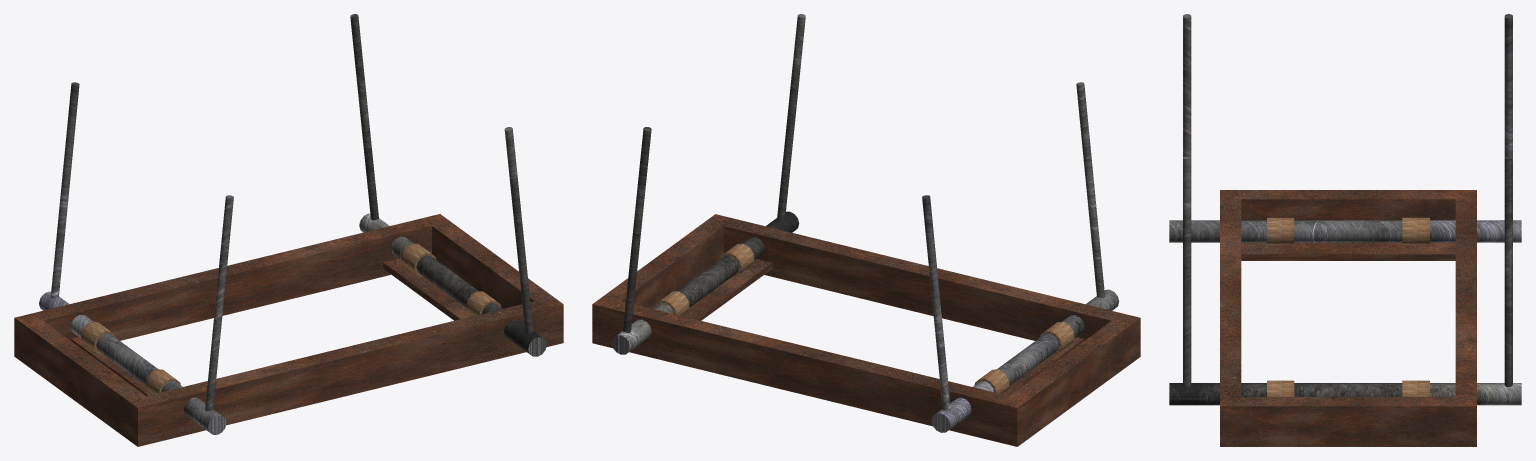
Rendered from toture02.fbx.
3 renders of one model, left to right at view 1: azimuth 30°, elevation 25°; view 2: azimuth 150°, elevation 25°; view 3: azimuth 270°, elevation 25°, orthographic. The views are drawn at different scales.
Visible parts, largest first — view 1: Box001, Cylinder002, Cylinder001, Cylinder004, Cylinder003, Cylinder005, Cylinder006, Box002, Box003, Cylinder007, Cylinder010; view 2: Box001, Cylinder002, Cylinder001, Cylinder003, Cylinder004, Cylinder006, Cylinder005, Box002, Box003, Cylinder008, Cylinder009; view 3: Box001, Cylinder002, Cylinder001, Box003, Cylinder005, Cylinder006, Cylinder003, Cylinder004, Cylinder010, Cylinder009, Cylinder007, Cylinder008.
Boxes of the visible parts, x1,y1,x2,y2 form: Box001: [14, 214, 563, 446]; Cylinder002: [39, 291, 226, 434]; Cylinder001: [359, 213, 546, 356]; Cylinder004: [205, 195, 233, 411]; Cylinder003: [50, 82, 79, 298]; Cylinder005: [350, 14, 378, 220]; Cylinder006: [504, 127, 533, 333]; Box002: [383, 258, 472, 320]; Box003: [71, 337, 152, 395]; Cylinder007: [401, 243, 436, 276]; Cylinder010: [80, 321, 115, 355]; Box001: [592, 214, 1140, 446]; Cylinder002: [931, 289, 1119, 432]; Cylinder001: [611, 211, 799, 354]; Cylinder003: [922, 195, 950, 410]; Cylinder004: [1076, 82, 1104, 297]; Cylinder006: [777, 14, 805, 219]; Cylinder005: [623, 127, 651, 332]; Box002: [682, 259, 772, 320]; Box003: [1002, 337, 1084, 395]; Cylinder008: [719, 243, 754, 276]; Cylinder009: [1039, 321, 1074, 355]; Box001: [1220, 190, 1476, 446]; Cylinder002: [1169, 220, 1521, 242]; Cylinder001: [1169, 383, 1521, 405]; Box003: [1241, 242, 1455, 260]; Cylinder005: [1504, 156, 1512, 386]; Cylinder006: [1183, 156, 1191, 386]; Cylinder003: [1504, 14, 1512, 157]; Cylinder004: [1183, 14, 1191, 157]; Cylinder010: [1402, 217, 1429, 244]; Cylinder009: [1267, 217, 1294, 244]; Cylinder007: [1402, 380, 1429, 396]; Cylinder008: [1267, 380, 1294, 396].
Bounding box in the file's own units: 120 × 65.65 × 82.68.
